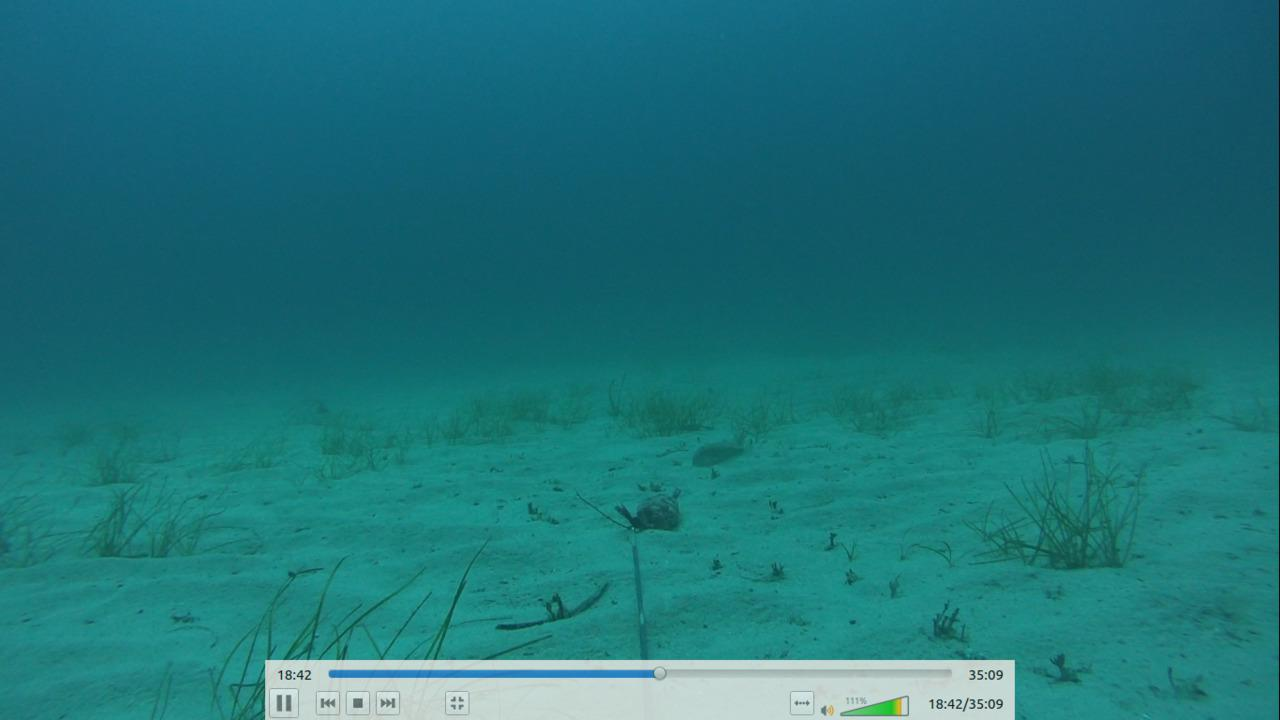raor: (684, 434, 746, 471)
